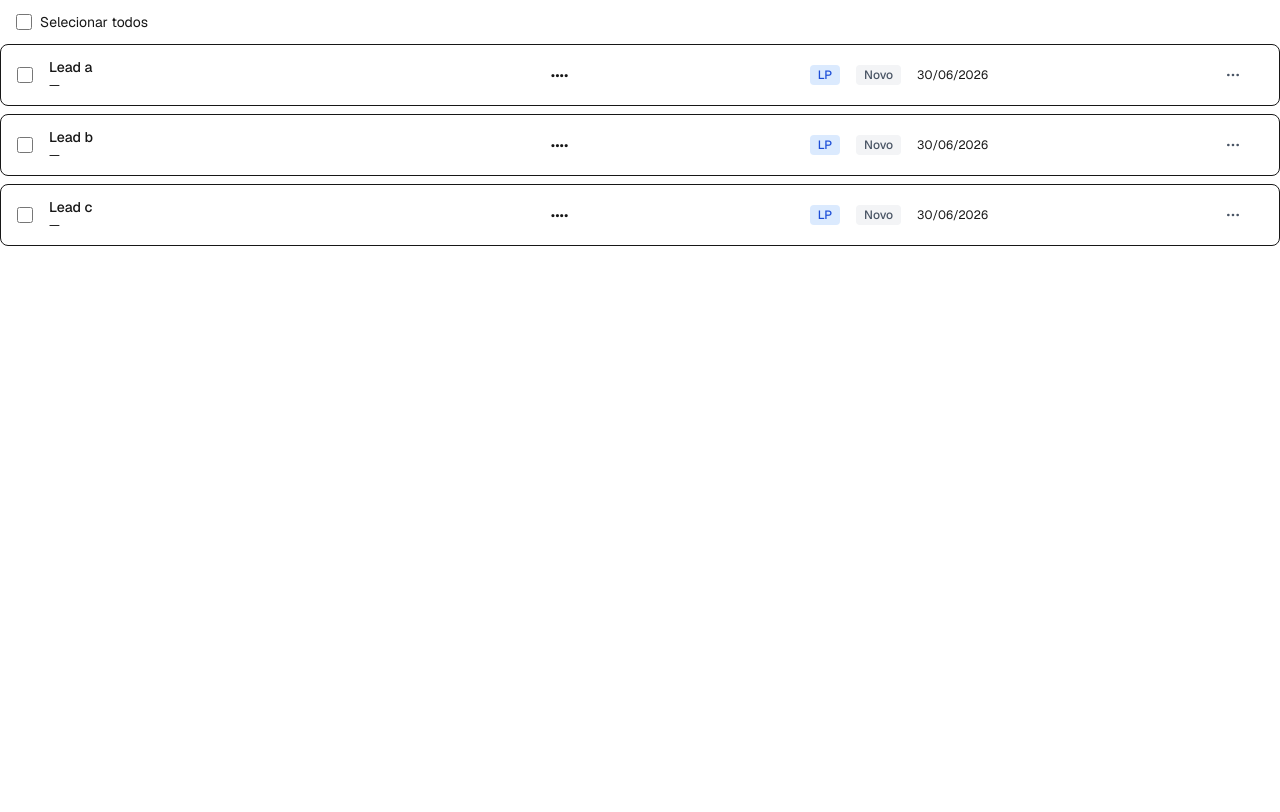
Test case: LeadsTable bulk actions (AC 8.8.7) › seleciona todos e qualifica em lote, exibindo toast com o resultado
Click the checkbox named "Selecionar todos os leads" at (24, 22), box left=16, top=14, right=32, bottom=30
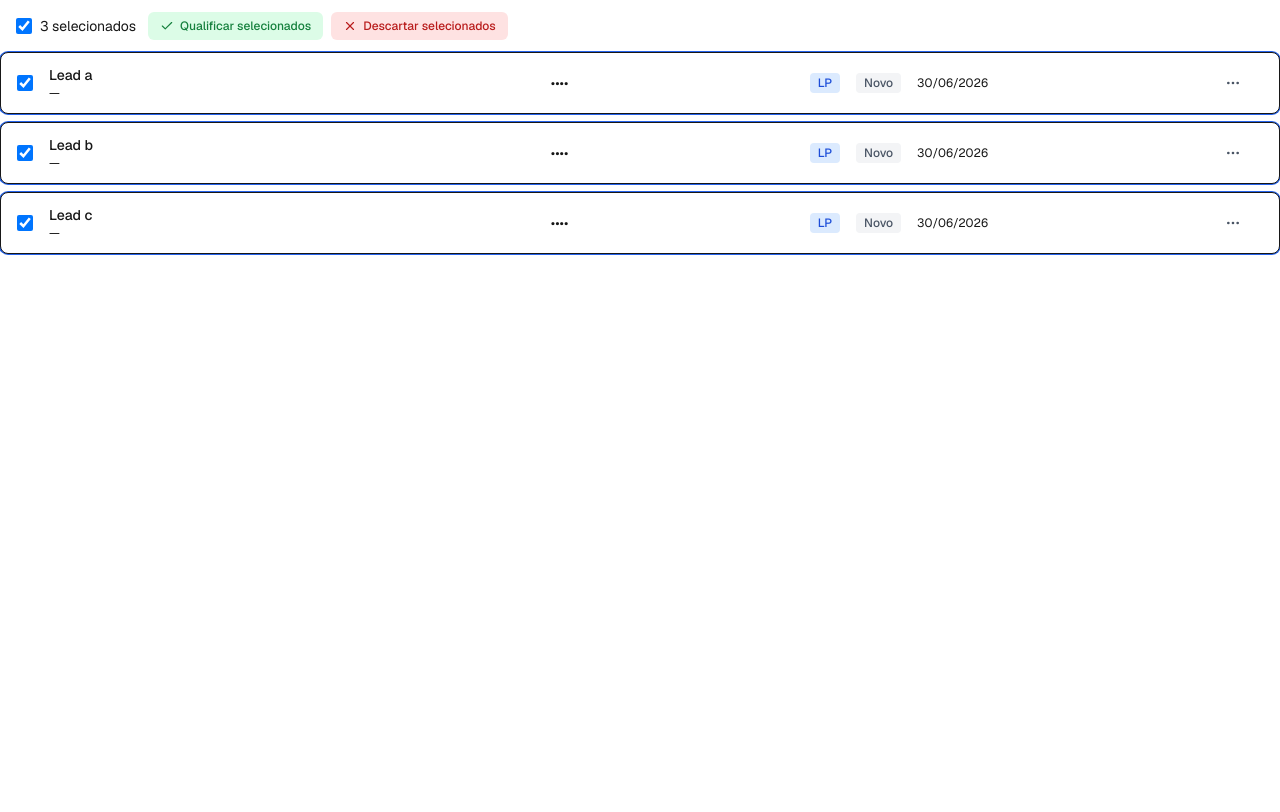
Click the button "Qualificar selecionados" at (236, 26), box left=148, top=12, right=323, bottom=40
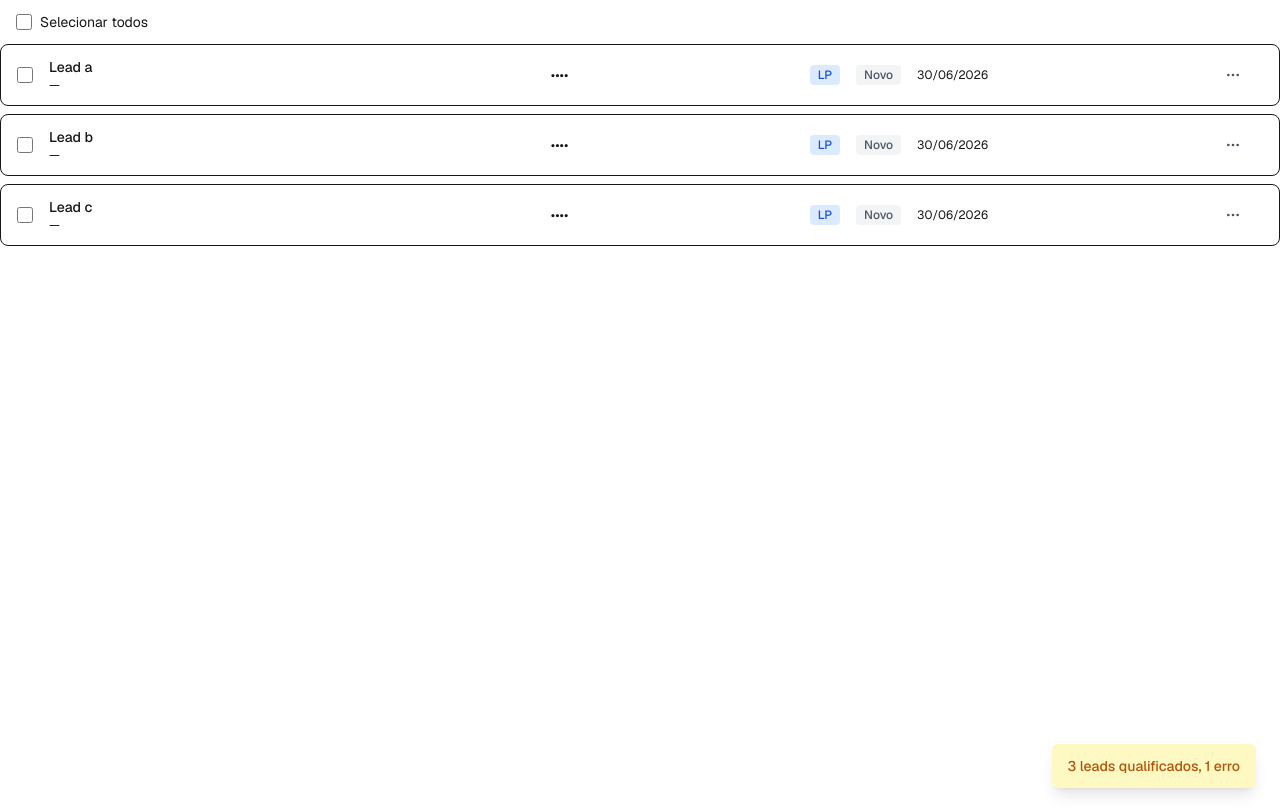
Expected: the message reads "3 leads qualificados, 1 erro", left=1068, top=757, right=1240, bottom=775
